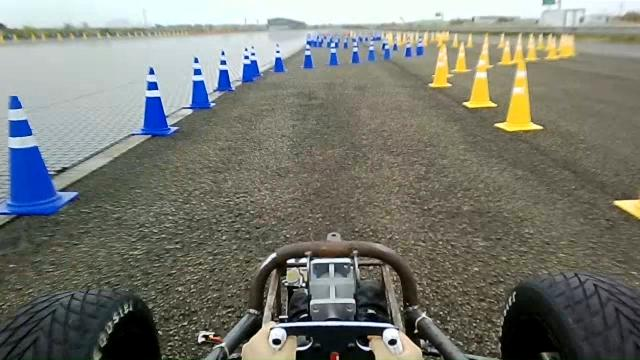blue cone: (0, 94, 80, 216), (131, 66, 179, 136), (182, 56, 216, 110), (212, 50, 235, 92), (240, 45, 263, 82), (272, 42, 286, 73), (241, 54, 255, 82), (300, 43, 315, 69), (327, 42, 340, 65), (350, 41, 360, 63)
yellow cone: (494, 58, 543, 132), (450, 41, 471, 74), (436, 43, 451, 74), (478, 32, 491, 67), (512, 32, 525, 63), (525, 33, 538, 61)
